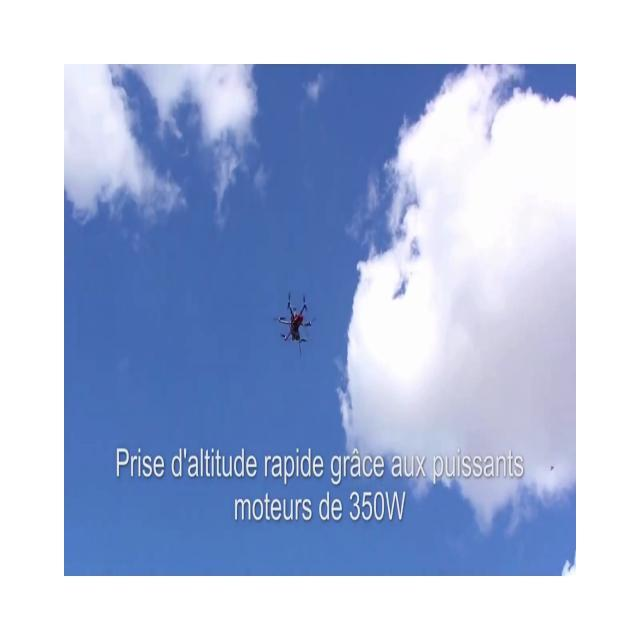drone: (273, 292, 316, 356)
